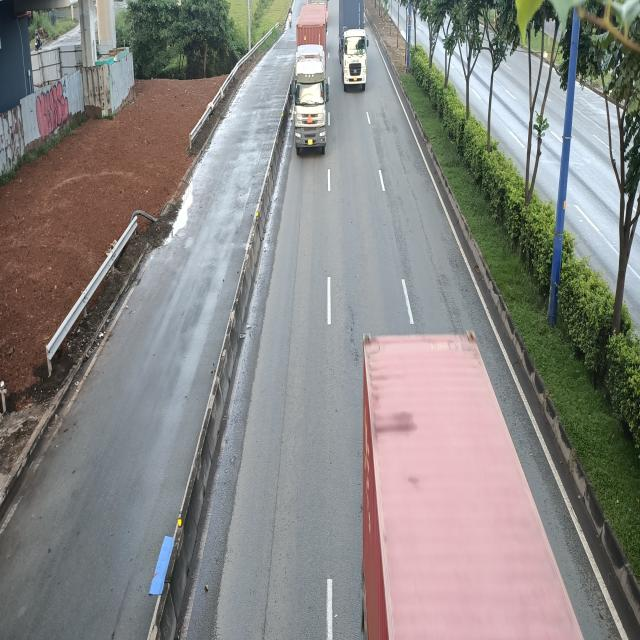container: (362, 334, 585, 640), (290, 3, 328, 154), (340, 0, 371, 91)
